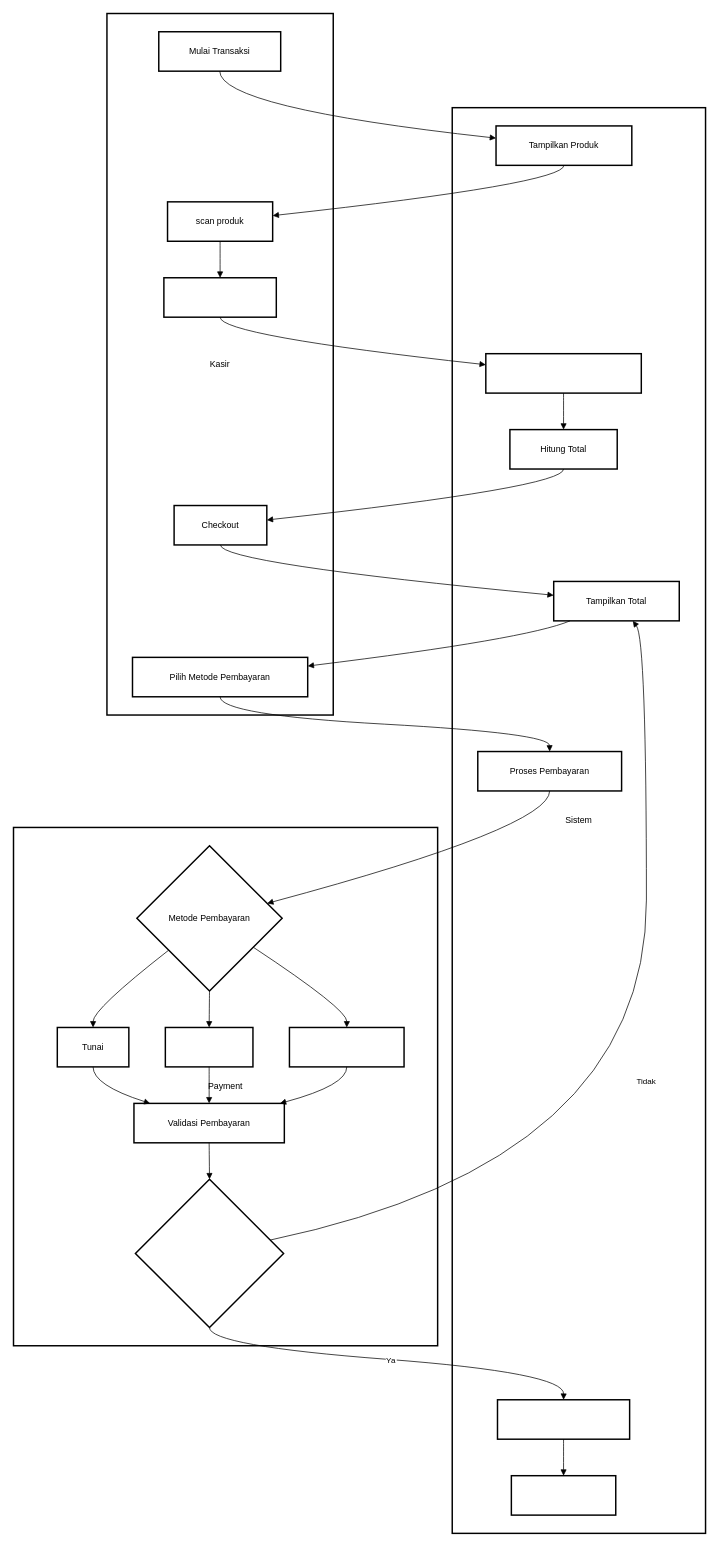
This 718x1546 diagram has some shape labels left out. The shapes that lost their labels are listed below. From the top down, each one's centre as x and y in pixels, then its label:
At (x=220, y=297): "Input Jumlah".
At (x=563, y=373): "Tambah ke Keranjang".
At (x=208, y=1046): "E-Wallet".
At (x=346, y=1046): "Transfer Bank".
At (x=209, y=1253): "Pembayaran Berhasil".
At (x=563, y=1419): "Simpan Transaksi".
At (x=563, y=1495): "Cetak Struk".
